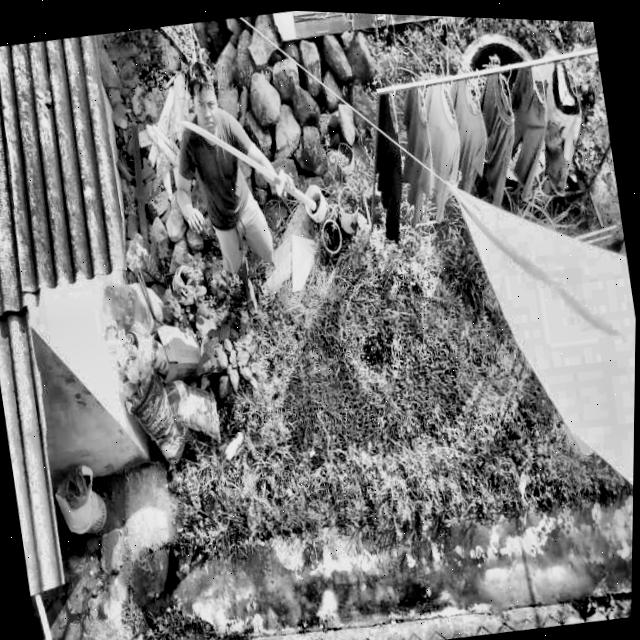pisau: (174, 123, 330, 233)
